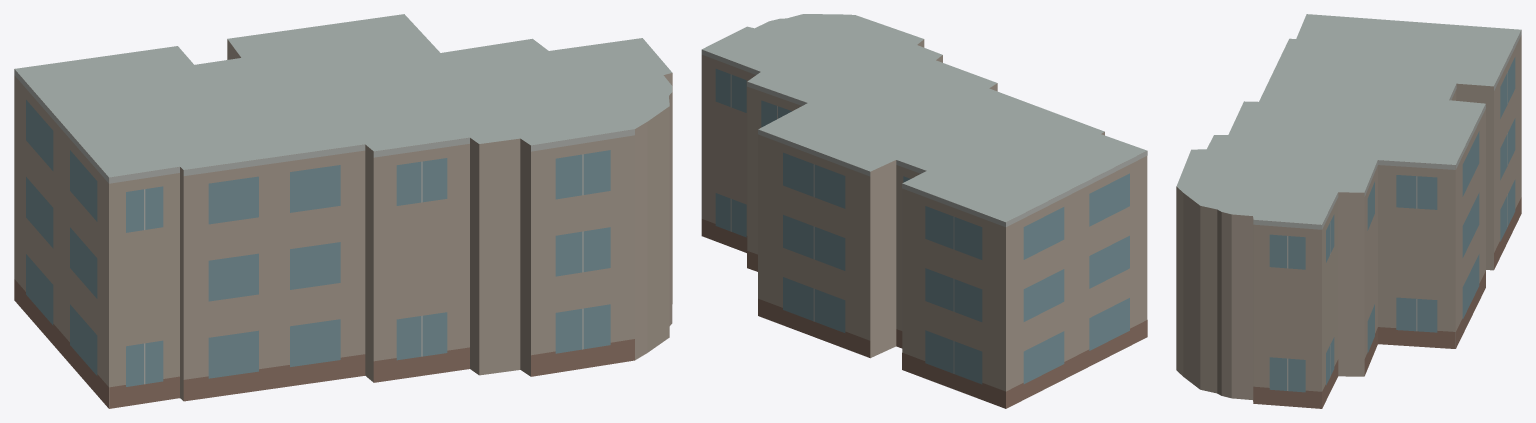
File: survey-upis-32666959.glb
The picture shows the model from 3 angles, left to right: view 1: azimuth 30°, elevation 25°; view 2: azimuth 150°, elevation 25°; view 3: azimuth 270°, elevation 25°; orthographic projection. The views are drawn at different scales.
Visible parts, largest first — view 1: survey-upis-32666959.tmp; view 2: survey-upis-32666959.tmp; view 3: survey-upis-32666959.tmp.
Boxes of the visible parts, <box> form: survey-upis-32666959.tmp: <box>14,14,672,408</box>; survey-upis-32666959.tmp: <box>701,14,1147,408</box>; survey-upis-32666959.tmp: <box>1176,14,1521,408</box>.
Bounding box in the file's own units: 22.37 × 9.1 × 15.47.
